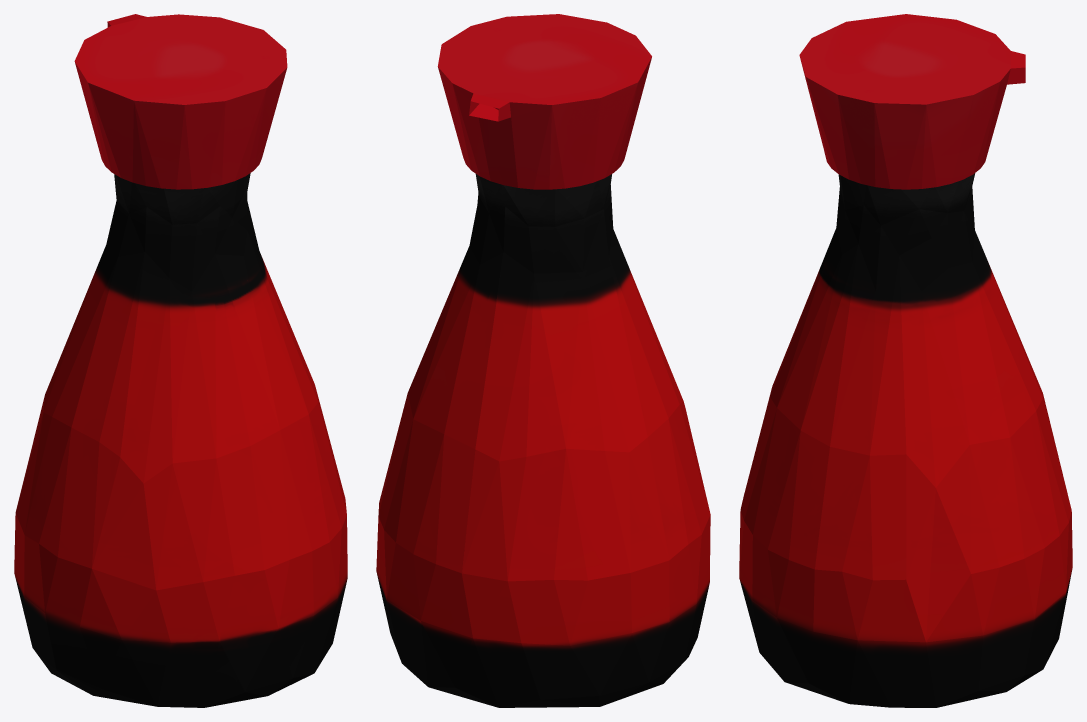
The model's file is Soy Sauce.fbx.
3 views of the same model, side by side, from view 1: azimuth 30°, elevation 25°; view 2: azimuth 150°, elevation 25°; view 3: azimuth 270°, elevation 25° (orthographic).
Visible parts, largest first — view 1: Soy Sauce; view 2: Soy Sauce; view 3: Soy Sauce.
Boxes of the visible parts, x1,y1,x2,y2 form: Soy Sauce: [14, 14, 347, 707]; Soy Sauce: [376, 14, 710, 707]; Soy Sauce: [739, 14, 1072, 707].
Size of the model in its own units: 192 by 371 by 191.
